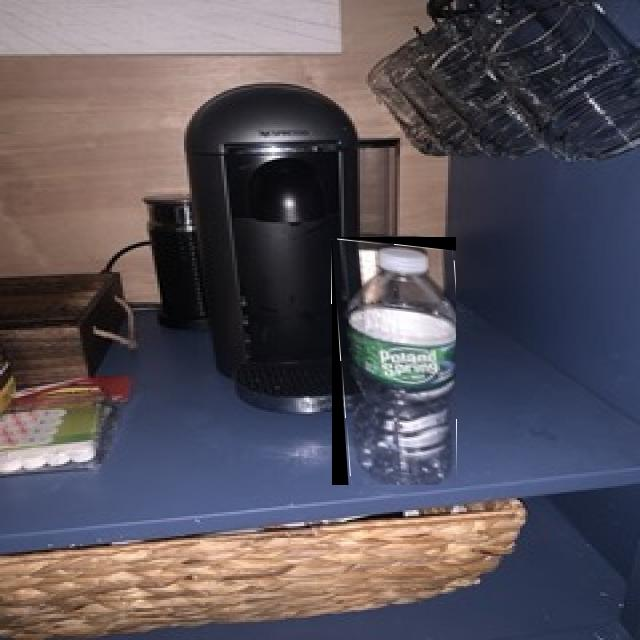water_bottle: (332, 237, 456, 485)
